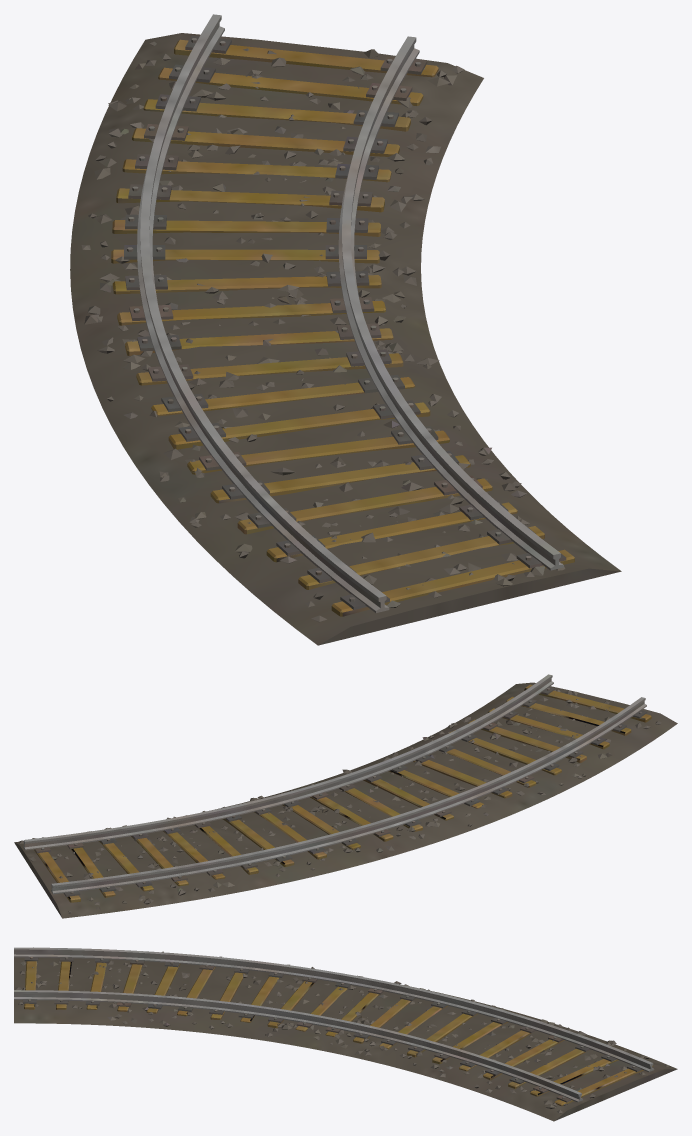
Rendered from legacy-curved-rail-ne.glb.
3 renders of one model, top to bottom at view 1: azimuth 30°, elevation 25°; view 2: azimuth 150°, elevation 25°; view 3: azimuth 270°, elevation 25°, orthographic. The views are drawn at different scales.
Parts seen in each view (by area): view 1: body; view 2: body; view 3: body.
Part boxes in pixels (left/top/right/bottom): body: left=70, top=14, right=621, bottom=645; body: left=14, top=674, right=677, bottom=918; body: left=14, top=947, right=677, bottom=1121.
Size of the model in its own units: 4.74 by 0.2157 by 7.72.
Materials: 1 (1 with a texture image).
